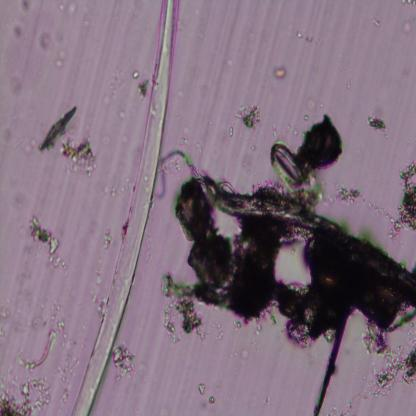Background material: (157, 177, 416, 412), (275, 112, 357, 209), (330, 324, 416, 414), (156, 269, 210, 339), (15, 317, 67, 368), (0, 365, 50, 415), (395, 149, 416, 230), (28, 215, 62, 263), (62, 135, 95, 177), (230, 100, 264, 133), (88, 260, 108, 316), (112, 342, 136, 381), (366, 113, 392, 135), (130, 71, 150, 99), (100, 225, 115, 251), (293, 27, 314, 45), (270, 62, 288, 81), (39, 29, 53, 50), (11, 22, 25, 41), (18, 0, 34, 15), (213, 321, 224, 342), (54, 48, 66, 66), (402, 18, 414, 36), (196, 381, 207, 396), (399, 0, 416, 6)
Cellulose filter fibre: (191, 168, 349, 238)
Diatom: (40, 103, 77, 151)
Microfibre: (70, 1, 178, 415)
